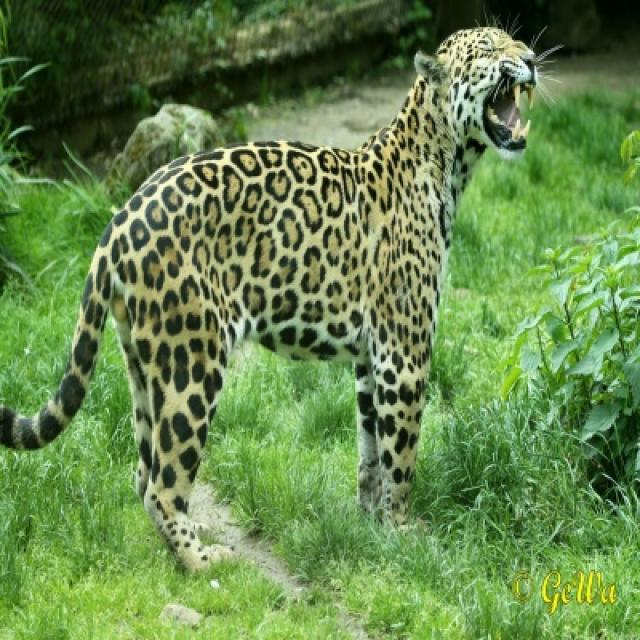Jaguar: (0, 27, 542, 576)
